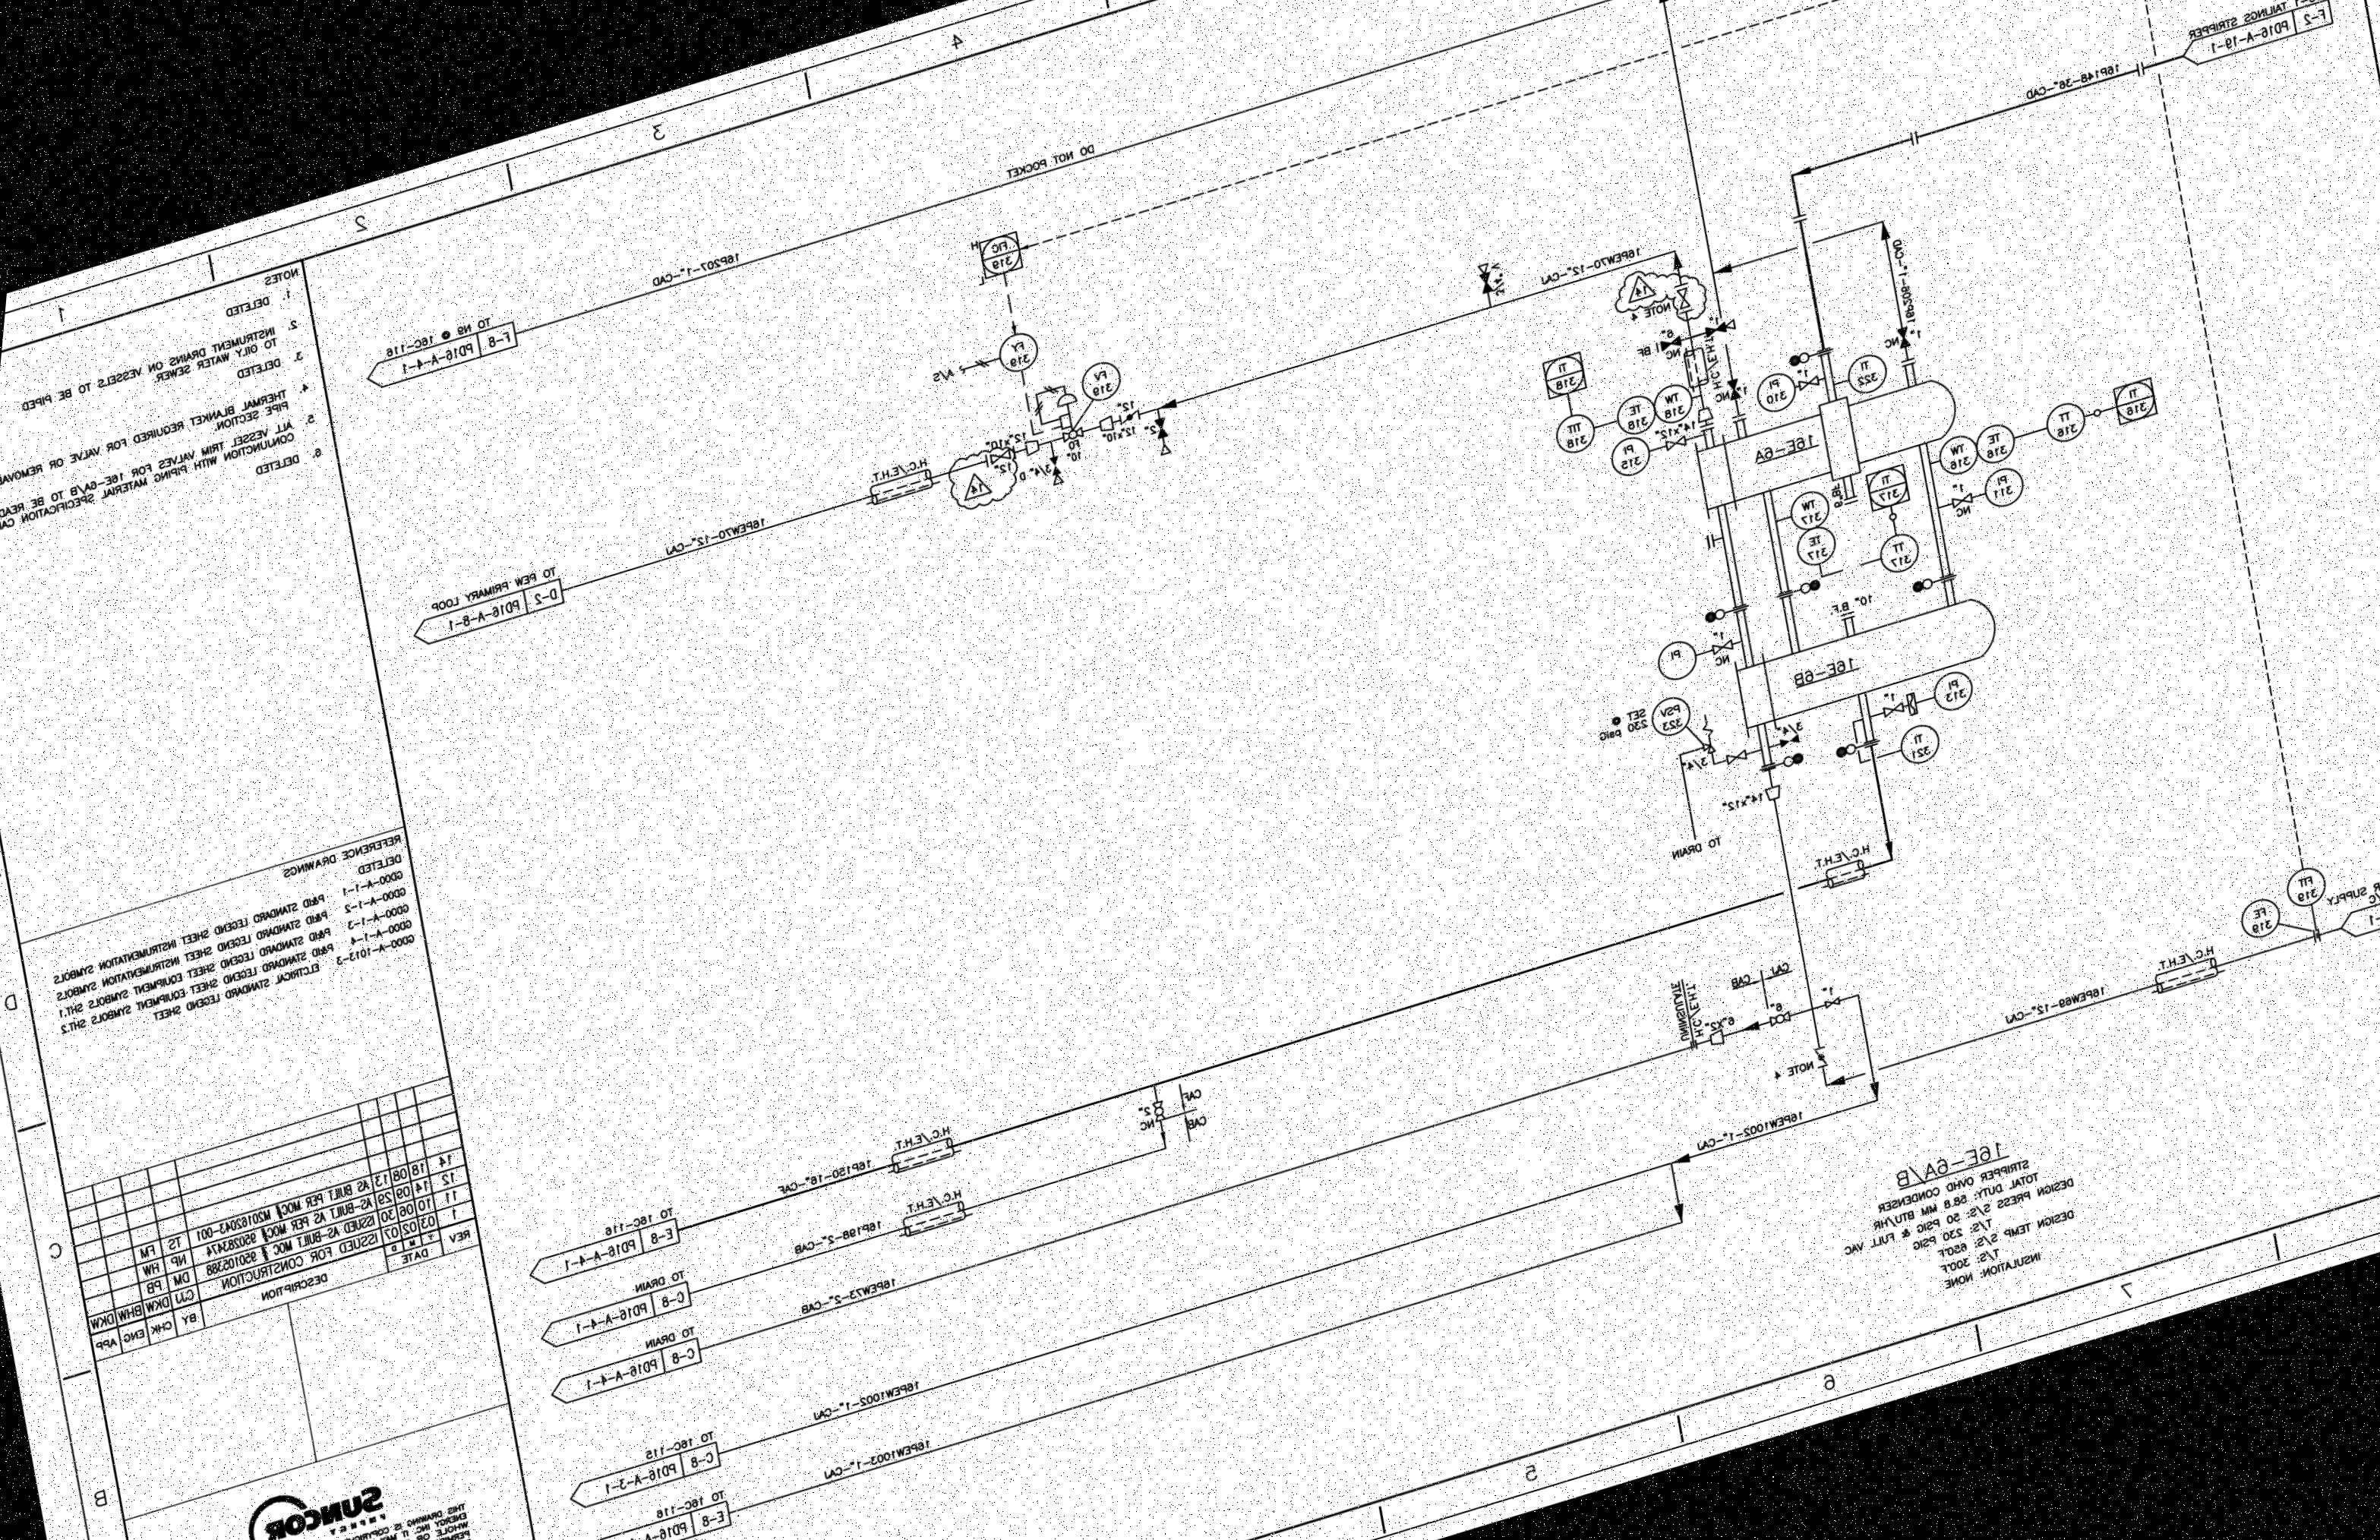DrainValve: (1046, 449, 1069, 489), (1474, 258, 1497, 298)
GateValve: (1794, 373, 1821, 392), (1662, 435, 1690, 453), (1709, 636, 1736, 654), (1723, 749, 1750, 767)
